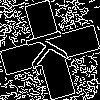K: (25, 25, 78, 70)
